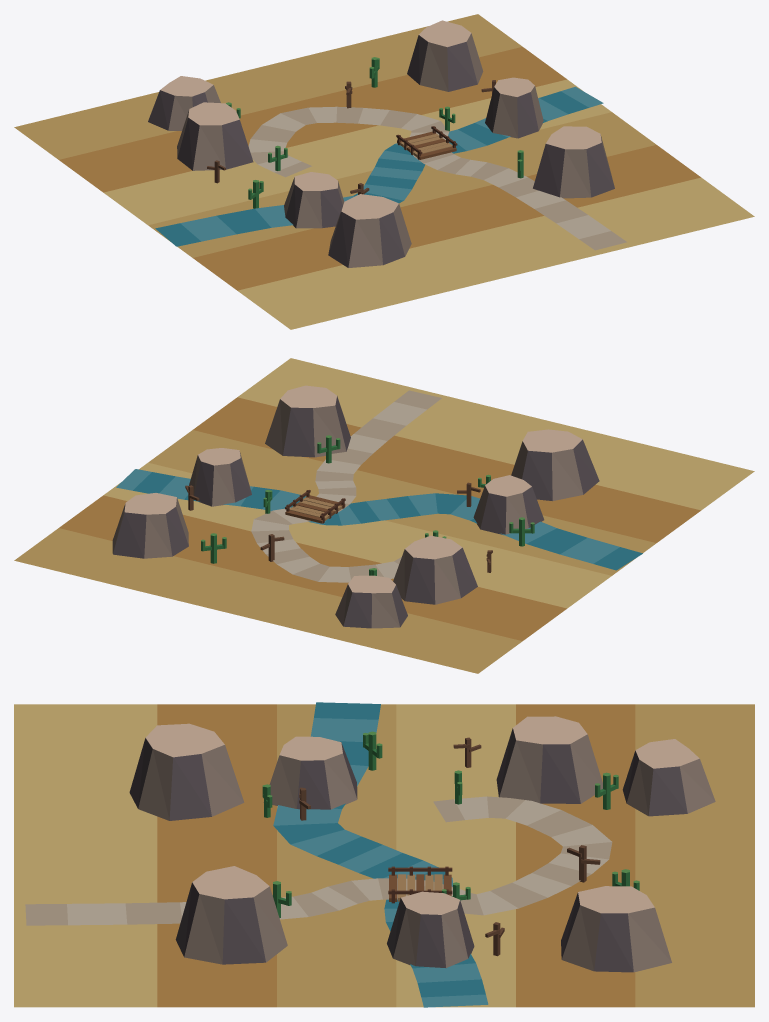
File: terrain_desert.fbx
The picture shows the model from 3 angles, top to bottom: view 1: azimuth 30°, elevation 25°; view 2: azimuth 150°, elevation 25°; view 3: azimuth 270°, elevation 25°; orthographic projection. The views are drawn at different scales.
Visible parts, largest first — view 1: v32_terrain_desert; view 2: v32_terrain_desert; view 3: v32_terrain_desert.
Part boxes in pixels (x1,y1,x2,y2): v32_terrain_desert: [14, 14, 754, 329]; v32_terrain_desert: [14, 358, 754, 673]; v32_terrain_desert: [14, 702, 754, 1007].
Bounding box in the file's own units: 30.23 × 2.72 × 31.
